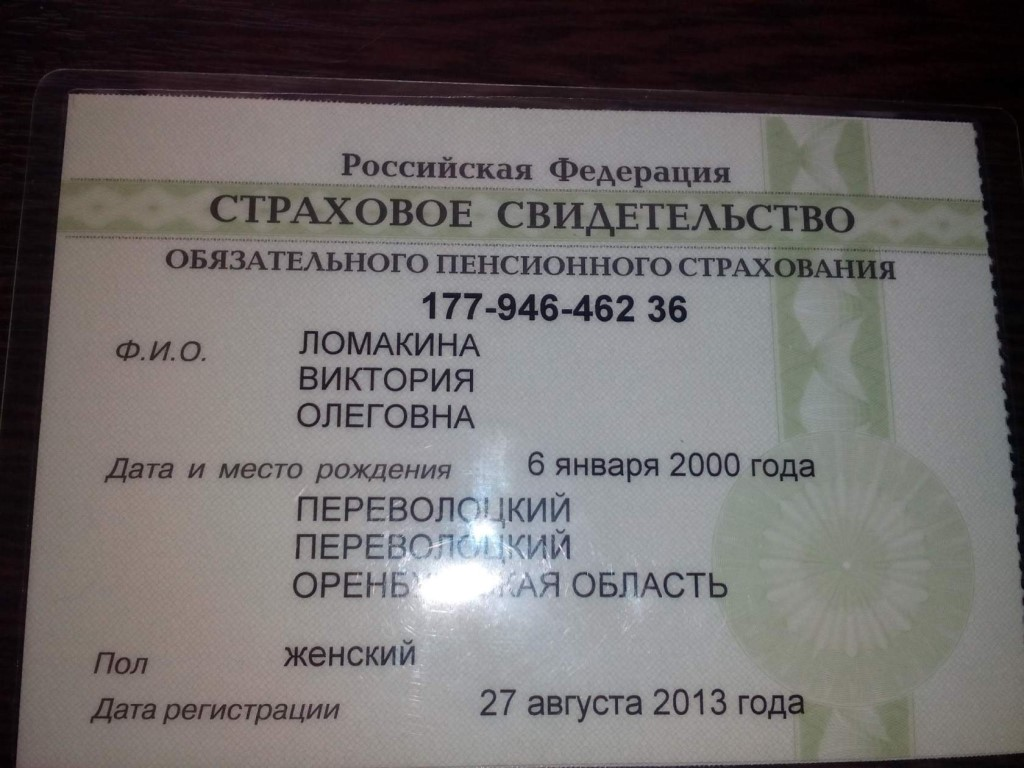text: (292, 493, 731, 610), (476, 684, 808, 724), (409, 284, 696, 326), (518, 445, 821, 481), (290, 395, 490, 437), (290, 359, 487, 397), (290, 321, 488, 358), (269, 633, 427, 674)
